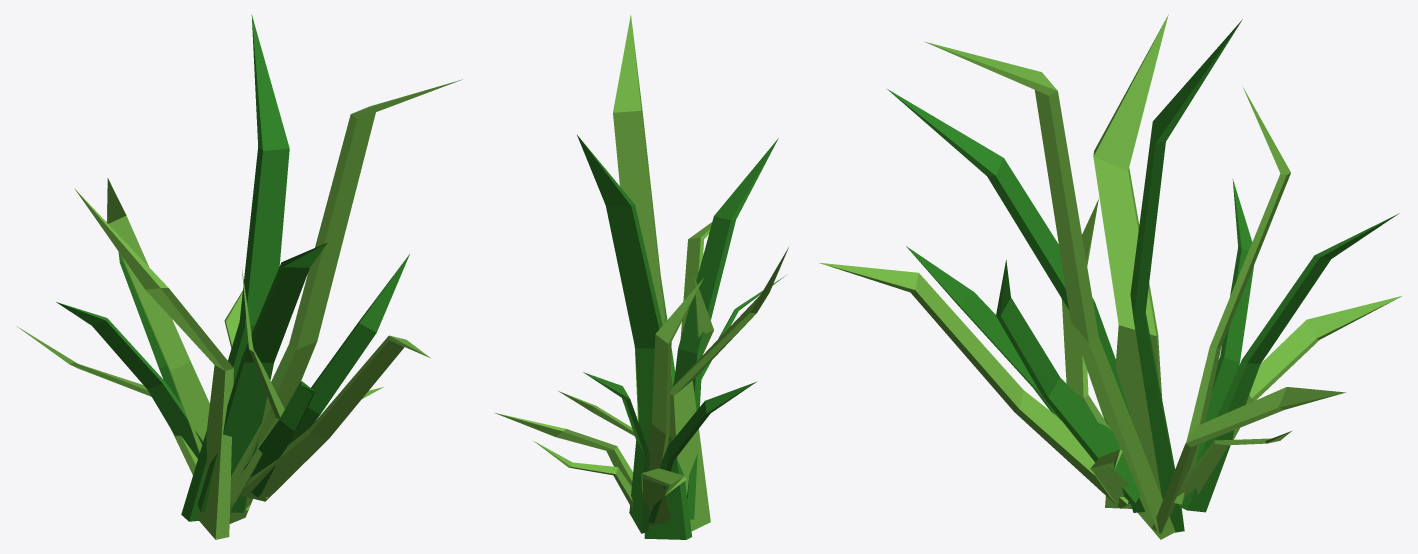
The model's file is grass_clump.fbx.
3 renders of one model, left to right at view 1: azimuth 30°, elevation 25°; view 2: azimuth 150°, elevation 25°; view 3: azimuth 270°, elevation 25°, orthographic. The views are drawn at different scales.
Visible parts, largest first — view 1: Cube.003; view 2: Cube.003; view 3: Cube.003.
Boxes of the visible parts, box(x1,y1,x2,y2) form: Cube.003: box(16, 14, 462, 539); Cube.003: box(494, 14, 788, 539); Cube.003: box(819, 14, 1402, 539).
Bounding box in the file's own units: 143 × 231 × 217.
